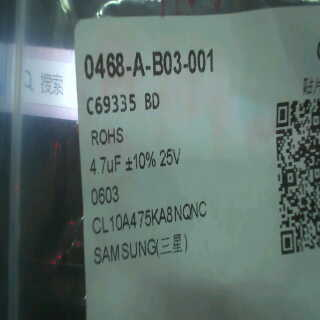4.7uF: (87, 154, 123, 179)
